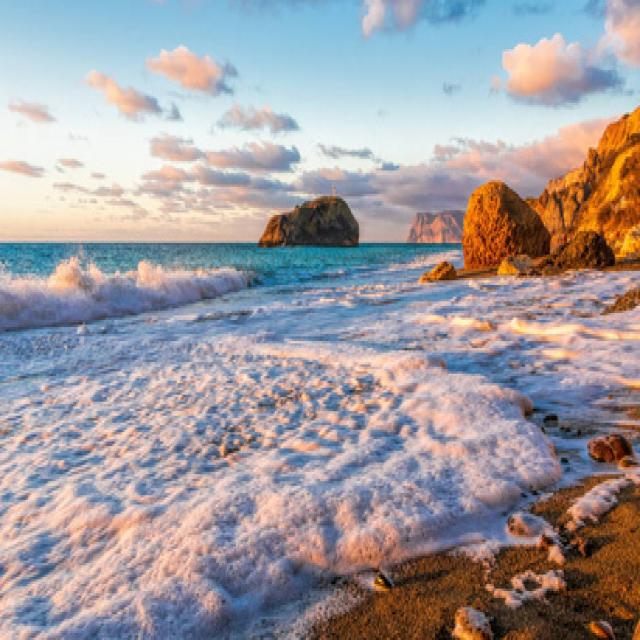island: (256, 166, 368, 254)
